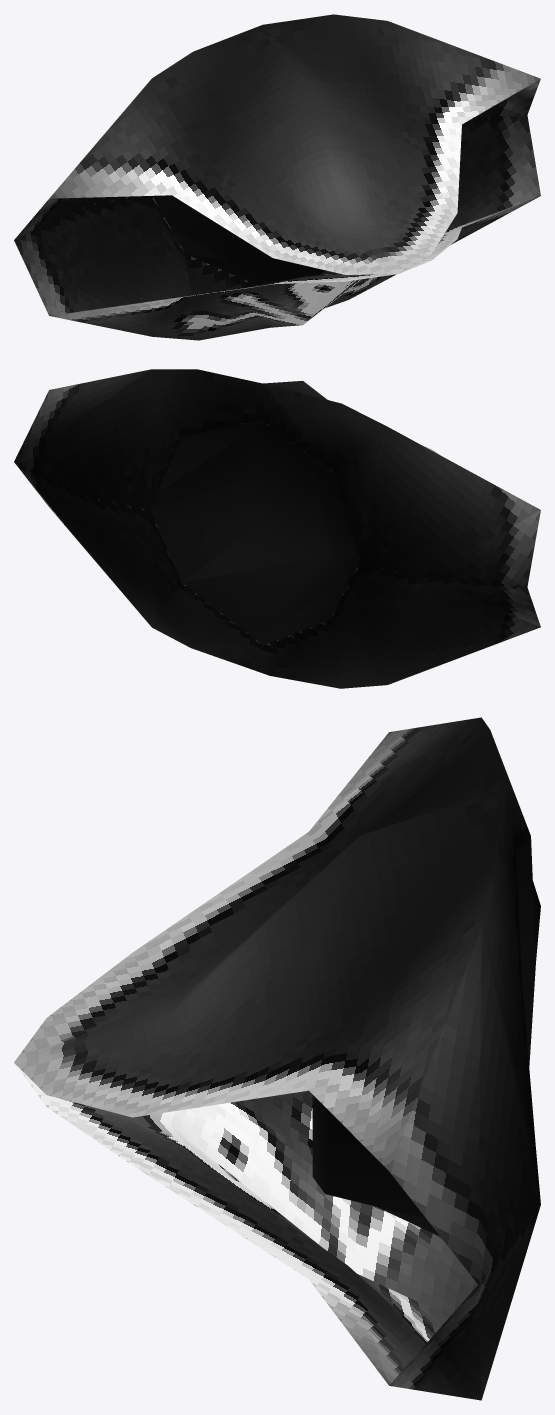
Rendered from tt_m_chr_avt_acc_hat_pirateHat.glb.
The picture shows the model from 3 angles, top to bottom: view 1: azimuth 30°, elevation 25°; view 2: azimuth 150°, elevation 25°; view 3: azimuth 270°, elevation 25°; orthographic projection. The views are drawn at different scales.
Parts seen in each view (by area): view 1: pirateHat; view 2: pirateHat; view 3: pirateHat.
Part boxes in pixels (x1,y1,x2,y2): pirateHat: (14,14,540,340); pirateHat: (14,369,540,688); pirateHat: (14,717,540,1400).
Bounding box in the file's own units: 6.39 × 3.54 × 3.1.
1 material, 1 textured.
